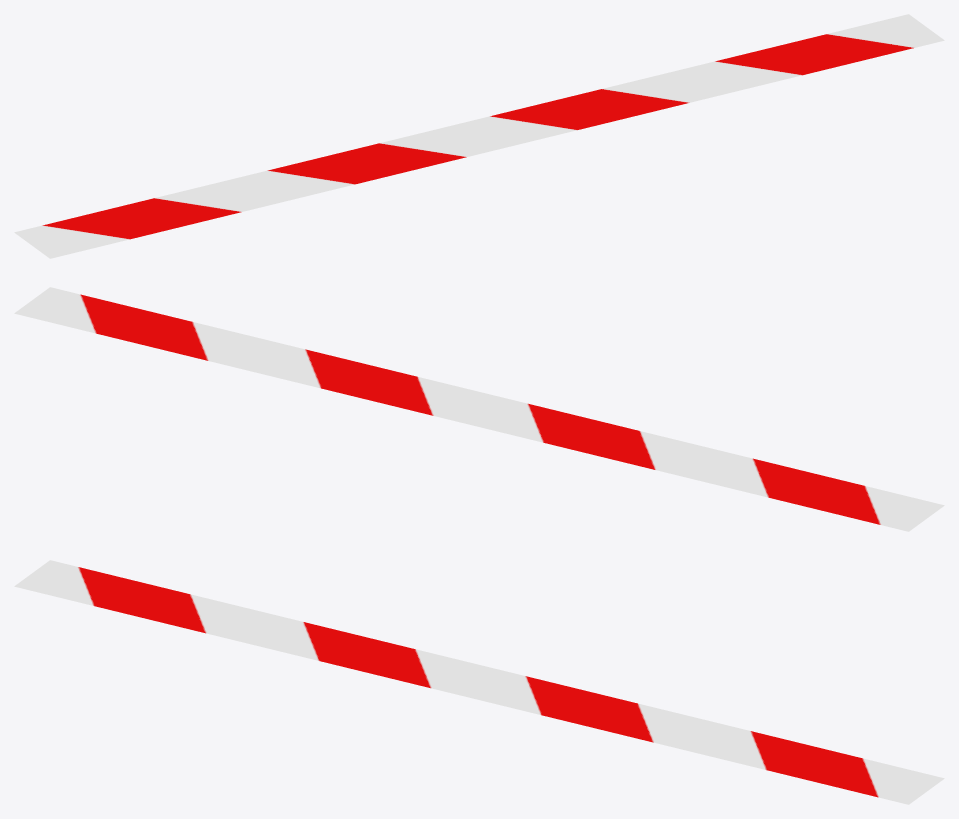
File: Tape_Plane.fbx
3 views of the same model, one above another, from view 1: azimuth 30°, elevation 25°; view 2: azimuth 150°, elevation 25°; view 3: azimuth 330°, elevation 25° (orthographic).
Parts seen in each view (by area): view 1: Tape_Plane; view 2: Tape_Plane; view 3: Tape_Plane.
Boxes of the visible parts, <box> form: Tape_Plane: <box>14,14,944,258</box>; Tape_Plane: <box>14,287,944,531</box>; Tape_Plane: <box>14,560,944,804</box>.
Bounding box in the file's own units: 1 × 2.22e-16 × 0.07.
